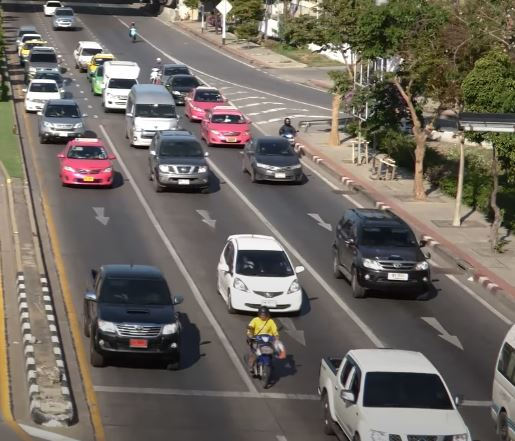Car: (316, 345, 472, 441), (82, 262, 185, 371), (331, 207, 432, 299), (216, 232, 305, 315), (147, 129, 210, 193), (124, 84, 179, 149), (240, 135, 304, 184), (57, 136, 116, 188), (201, 105, 252, 149), (101, 61, 142, 111), (38, 99, 84, 143), (183, 85, 230, 121), (23, 78, 64, 113), (22, 46, 61, 81), (164, 74, 203, 105), (72, 40, 106, 71)
Motorcycle: (245, 306, 288, 389), (277, 117, 299, 151), (149, 56, 164, 87), (126, 21, 139, 43)
